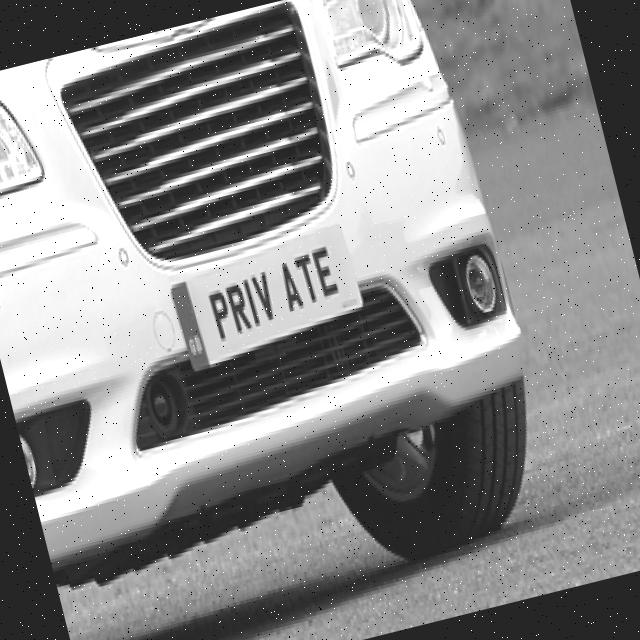Autre: (166, 216, 367, 374)
